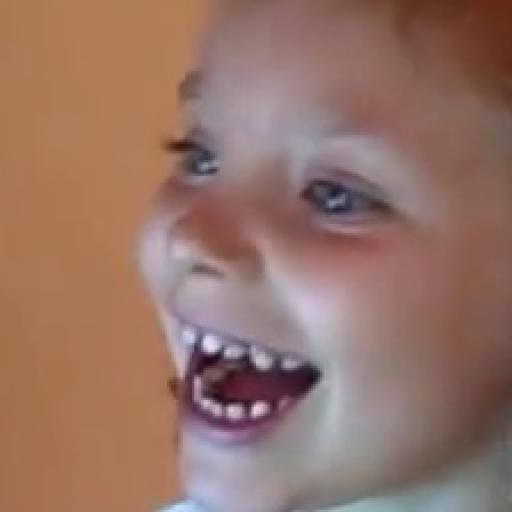Autism: (113, 9, 511, 512)
